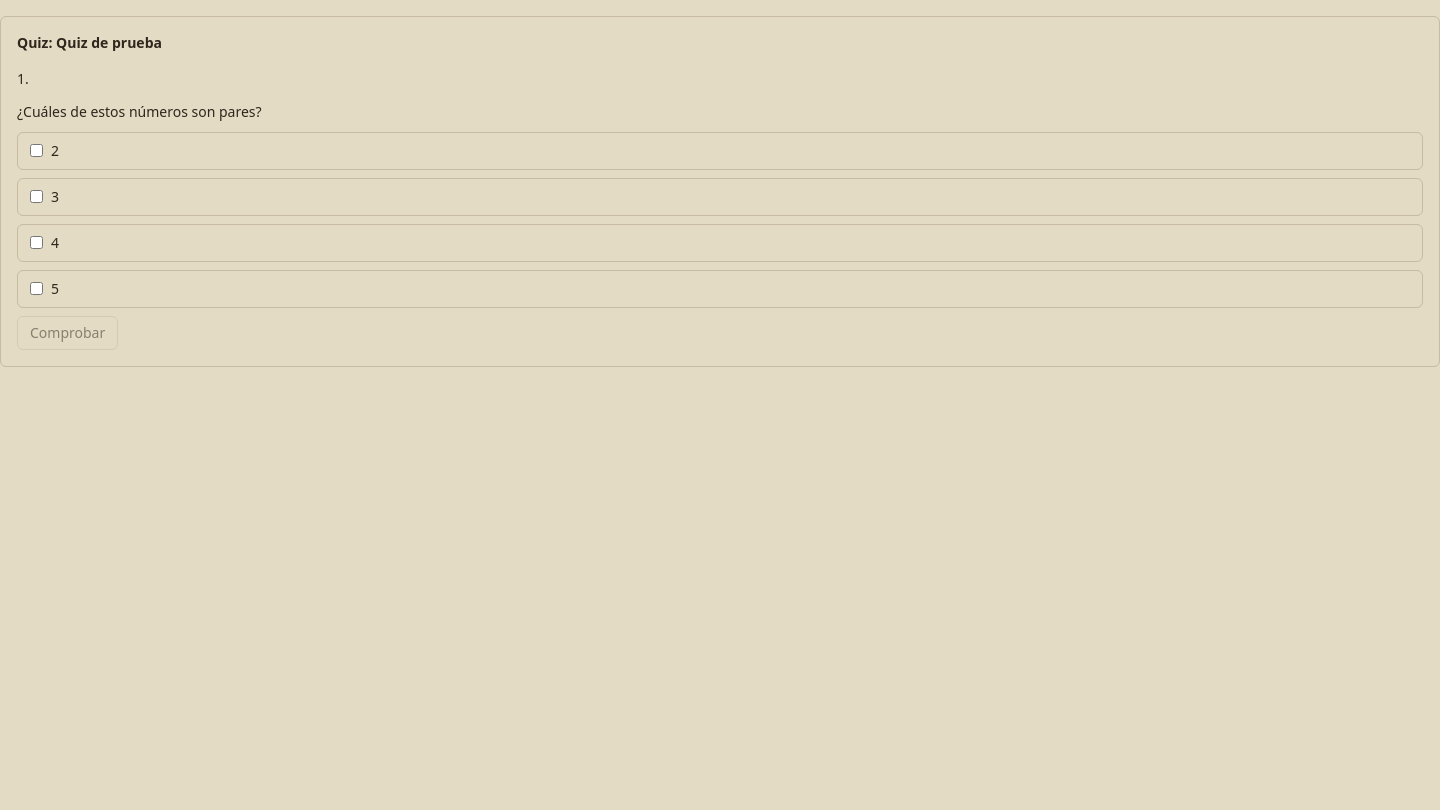
Test: QuizCard — CA-11: corrección inmediata + explicación (tipo 'multi') › seleccionar un conjunto parcial/incorrecto ⇒ 'Incorrecta' + explicación
Click the checkbox labelled "2" at (36, 151), box [30,144,43,157]
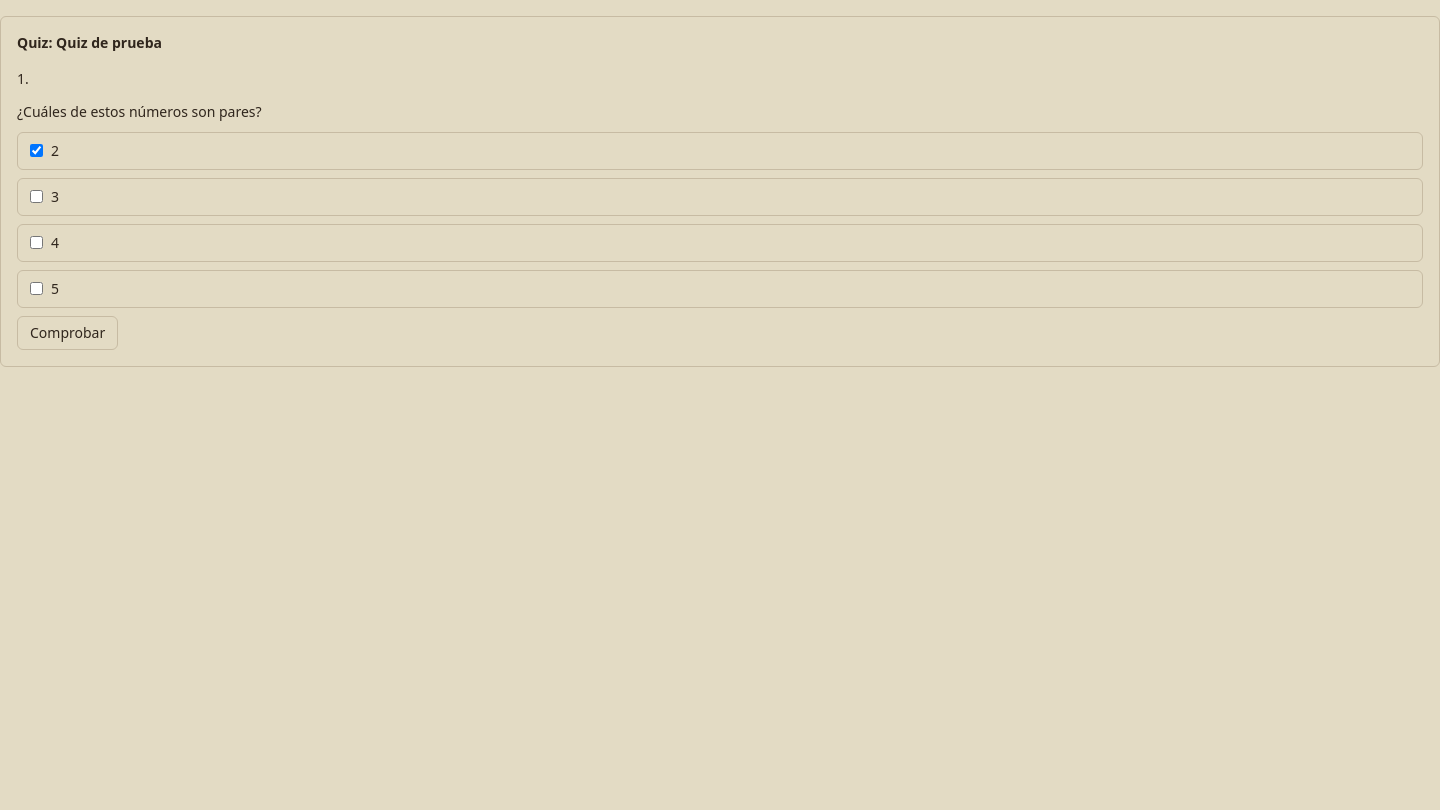
Click the button "Comprobar" at (68, 333), box [17,316,118,350]
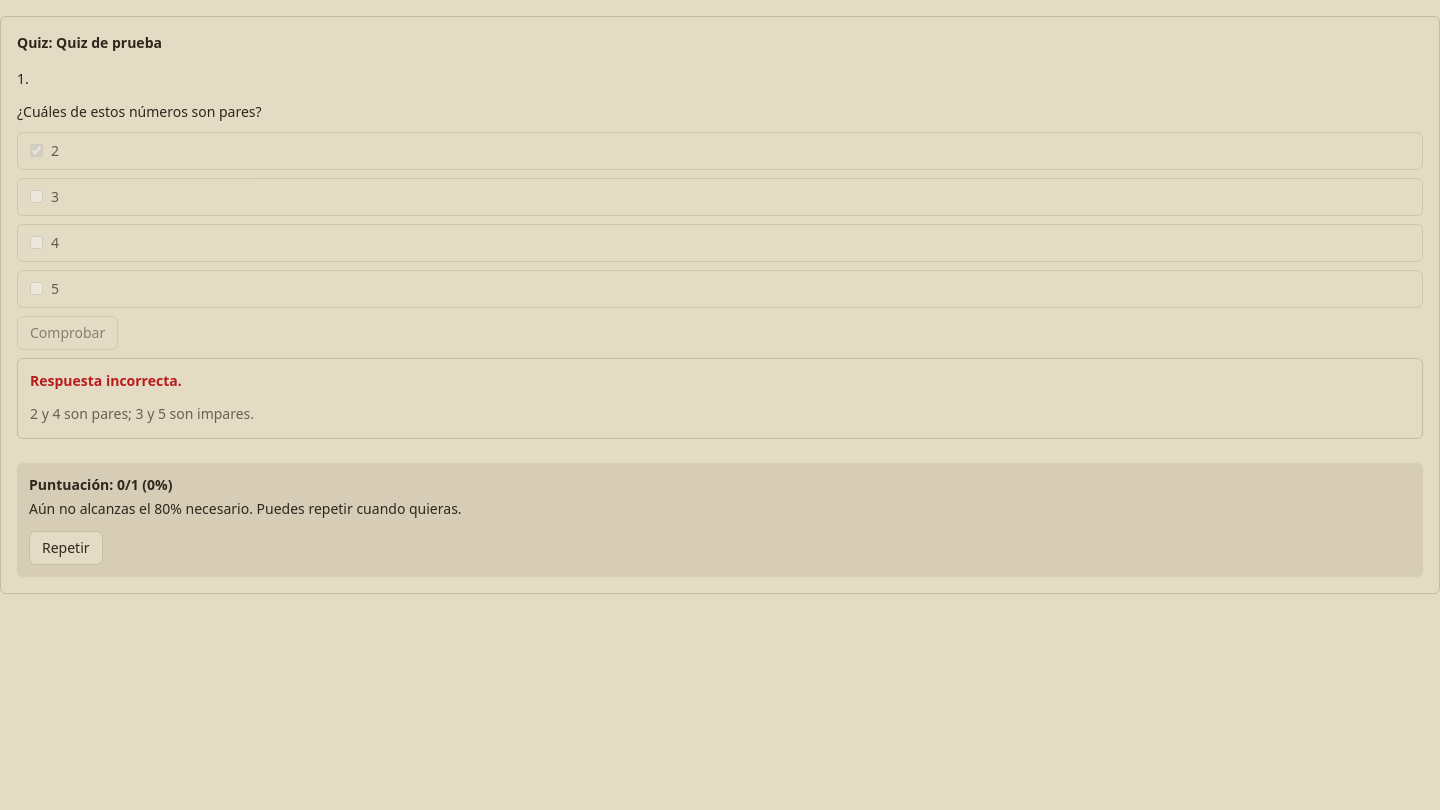
Expected: the text "Respuesta incorrecta." is shown, [30,371,182,390]
Expected: the text "2 y 4 son pares; 3 y 5 son impares." is shown, [30,404,254,423]
